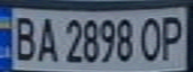2: (60, 15, 84, 64)
8: (115, 15, 139, 63), (78, 16, 100, 64)
9: (97, 16, 118, 64)
A: (33, 14, 60, 63)
B: (9, 12, 39, 62)
O: (136, 14, 166, 63)
P: (157, 11, 187, 62)
